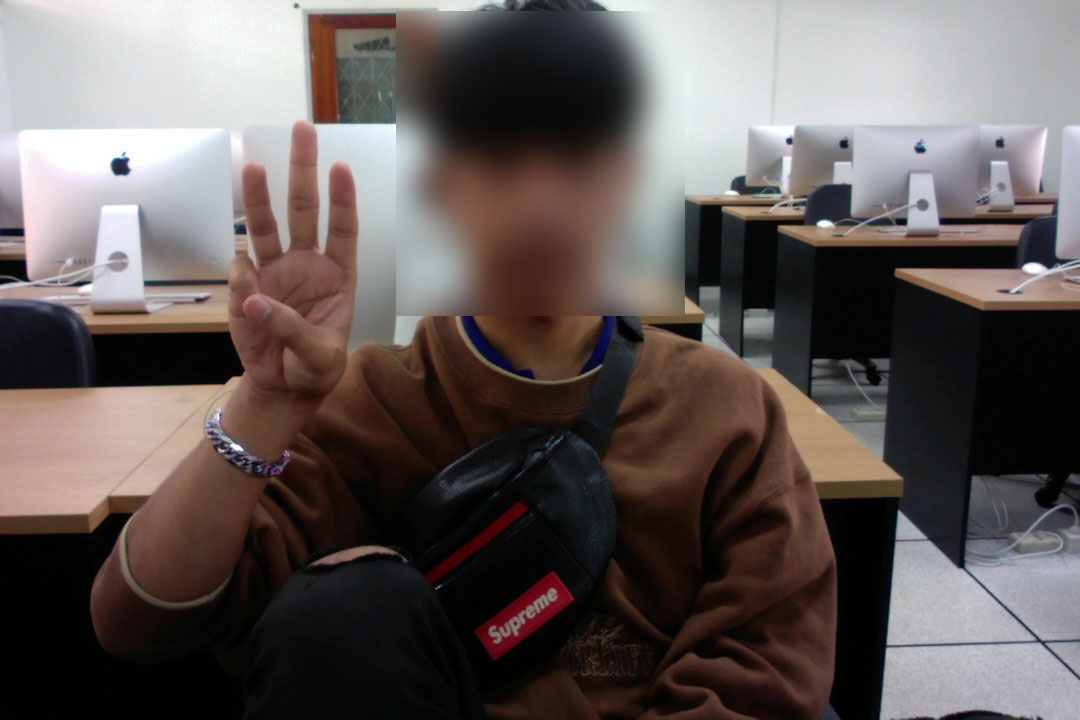wor: (218, 119, 371, 404)
